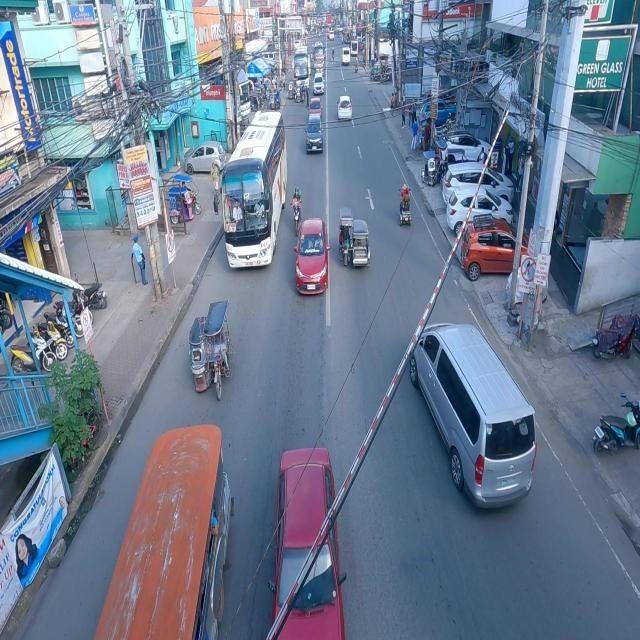Van: (411, 323, 540, 501)
